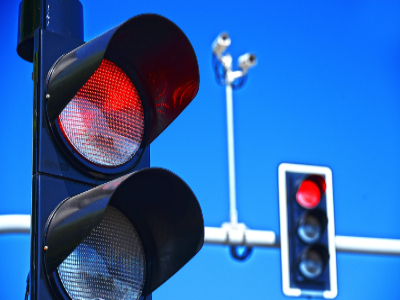trafficlight_red: (38, 24, 190, 300), (286, 172, 331, 292)
